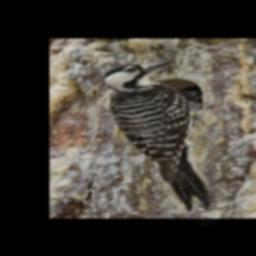Woodpecker: (101, 58, 214, 212)
